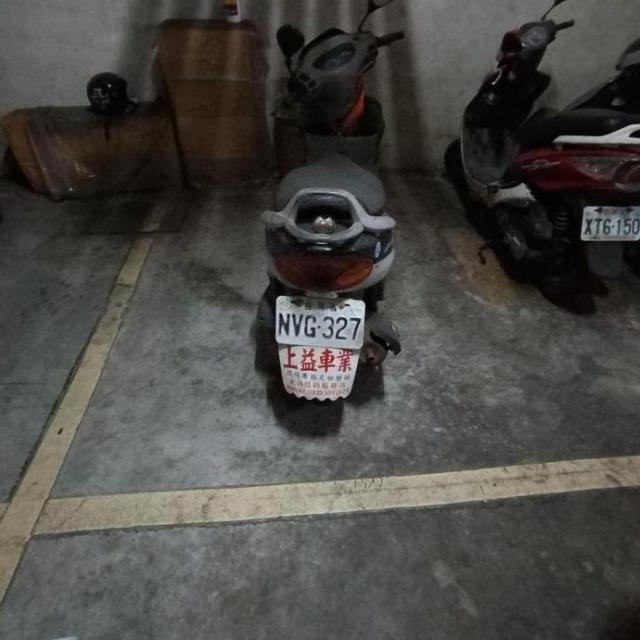W: (272, 290, 367, 351), (576, 193, 640, 249)
